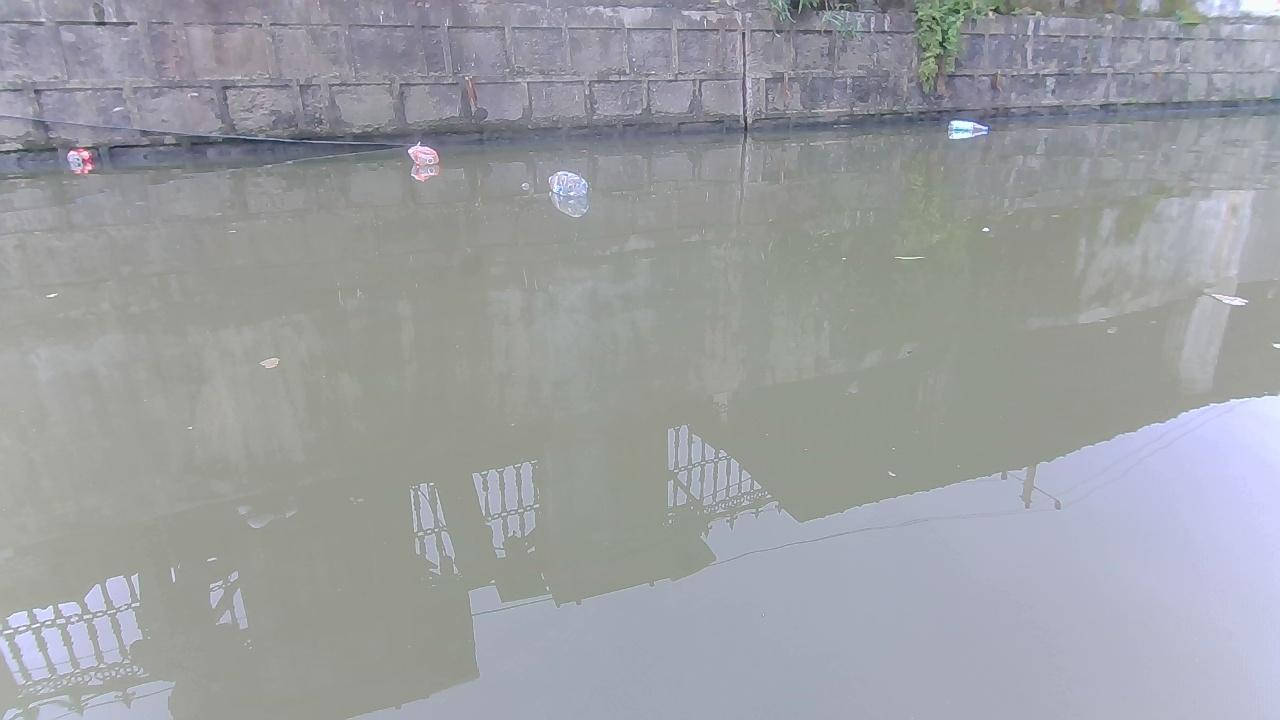bottle: (547, 171, 591, 197), (406, 144, 439, 167), (945, 120, 986, 134), (65, 147, 93, 165)
